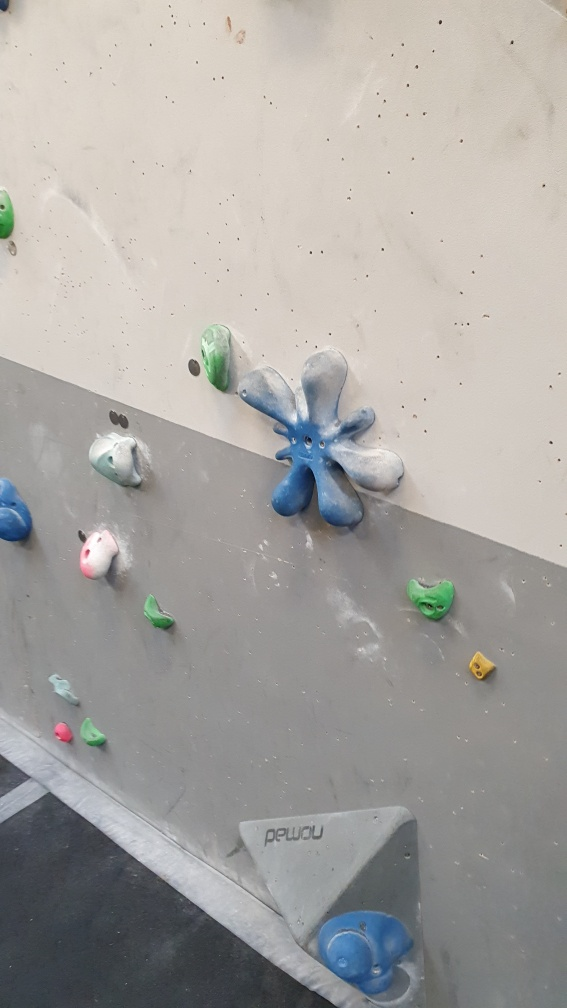Jug: (98, 428, 144, 489), (200, 322, 236, 394), (78, 530, 126, 581), (406, 576, 455, 620), (139, 591, 181, 625)
Octopus Pinch: (236, 350, 404, 534)
Sloper: (321, 909, 417, 997), (1, 475, 37, 544)
